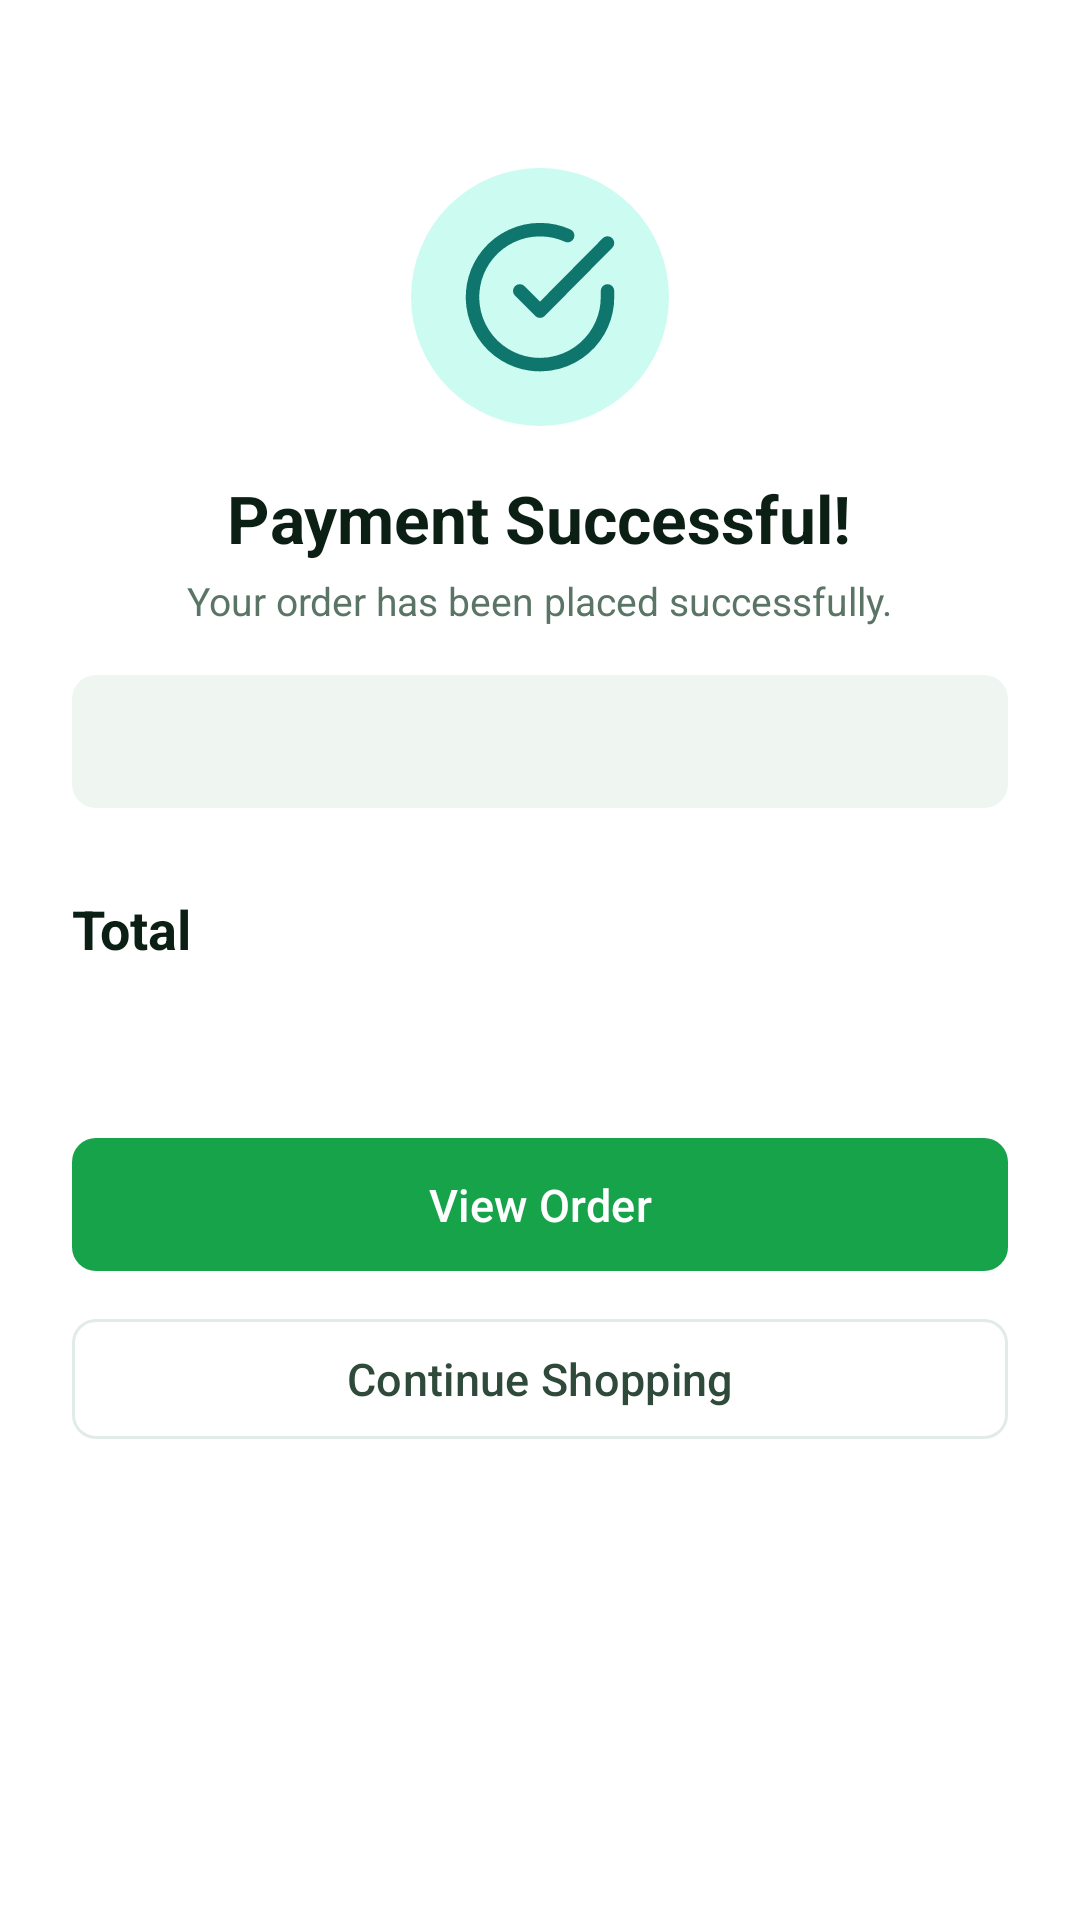

Screen size 1080w x 1920h. Icon name, then its box in pixels as (x1, y1, x2, y2):
check circle: (411, 168, 669, 426)
